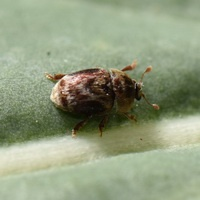insect: (46, 61, 158, 118)
